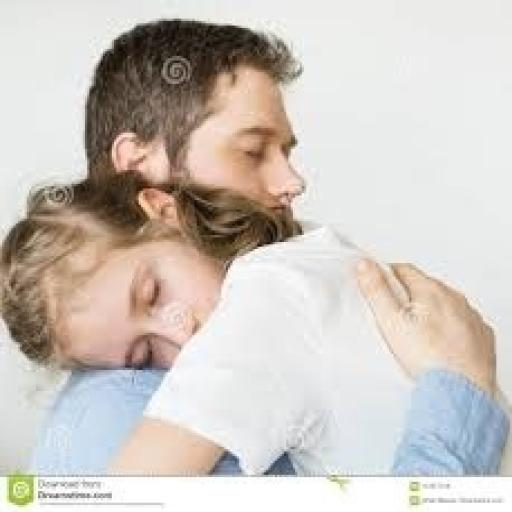hugging: (0, 16, 510, 475)
